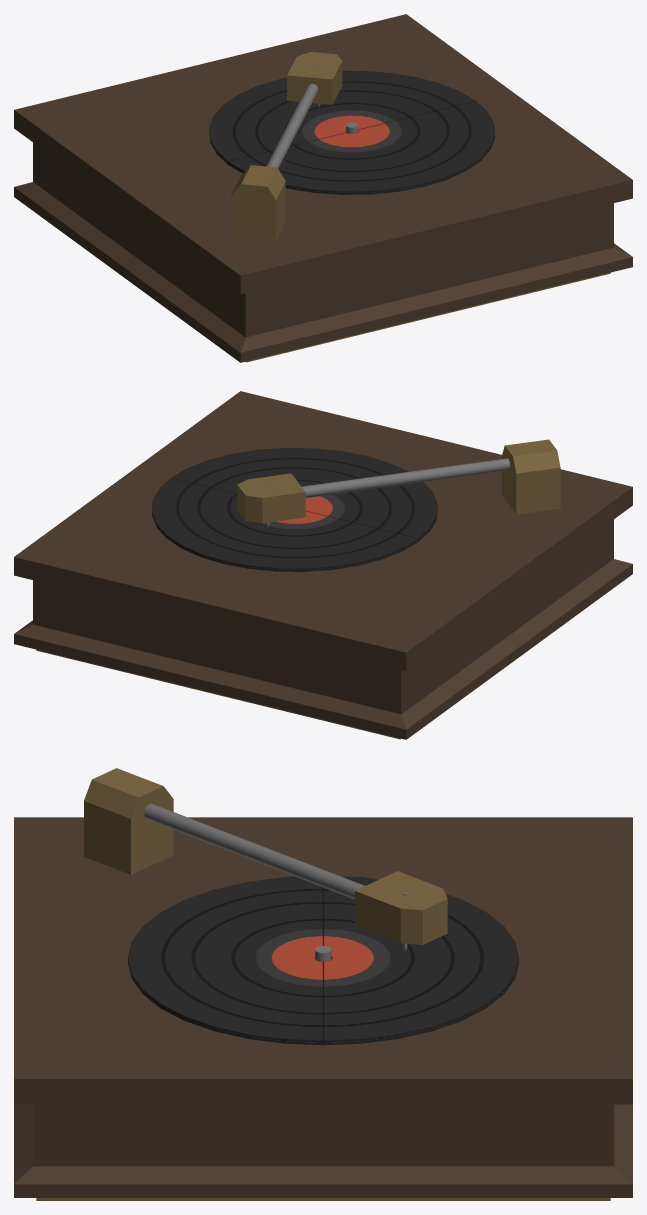
File: terpasang.fbx
3 views of the same model, one above another, from view 1: azimuth 30°, elevation 25°; view 2: azimuth 150°, elevation 25°; view 3: azimuth 270°, elevation 25° (orthographic). The views are drawn at different scales.
Visible parts, largest first — view 1: Cube, Cylinder.003, Cube.003, Cube.004, Cylinder, Cube.001; view 2: Cube, Cylinder.003, Cube.003, Cube.004, Cylinder, Cube.001; view 3: Cube, Cylinder.003, Cube.003, Cube.004, Cylinder, Cube.001.
Boxes of the visible parts, <box> form: Cube: <box>14,14,632,362</box>; Cylinder.003: <box>209,71,494,194</box>; Cube.003: <box>230,165,285,241</box>; Cube.004: <box>287,52,342,104</box>; Cylinder: <box>266,83,318,168</box>; Cube.001: <box>246,272,610,362</box>; Cube: <box>14,391,632,739</box>; Cylinder.003: <box>152,448,437,571</box>; Cube.003: <box>502,439,560,514</box>; Cube.004: <box>237,473,305,523</box>; Cylinder: <box>302,458,510,497</box>; Cube.001: <box>36,649,400,739</box>; Cube: <box>14,817,632,1197</box>; Cylinder.003: <box>128,876,518,1045</box>; Cube.003: <box>84,768,173,874</box>; Cube.004: <box>355,871,447,944</box>; Cylinder: <box>144,803,364,899</box>; Cube.001: <box>36,1198,610,1200</box>.
Size of the model in its own units: 200 by 73.47 by 200.
